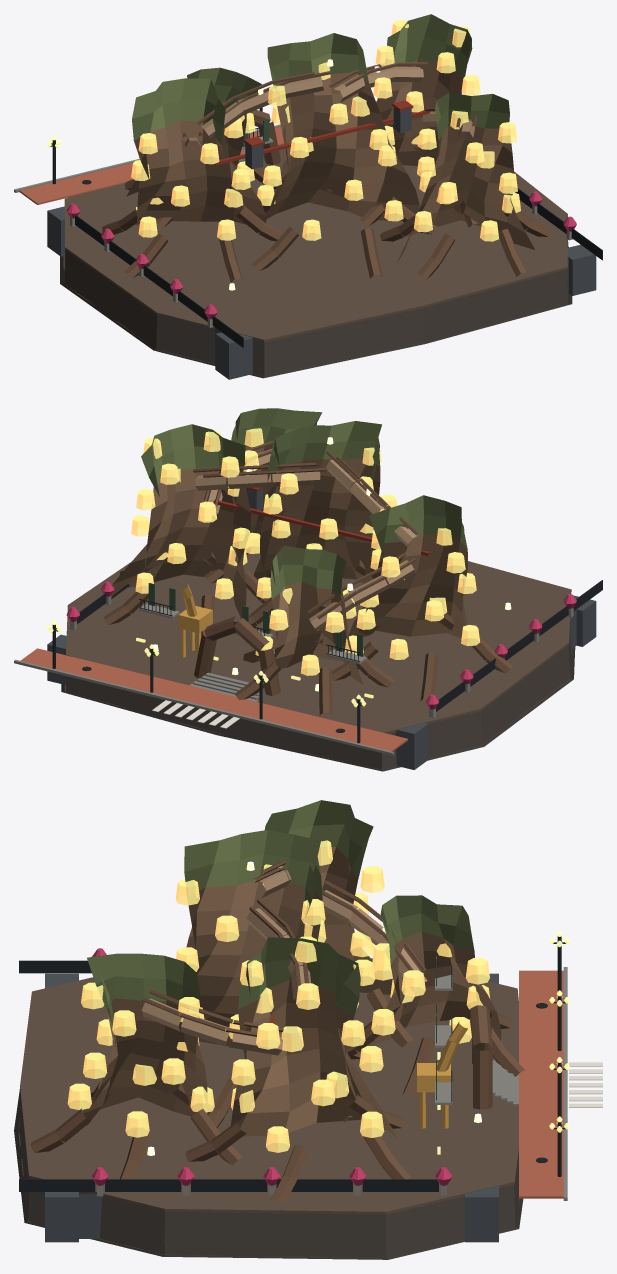
The model's file is lm_11_crazy_house.glb.
The picture shows the model from 3 angles, top to bottom: view 1: azimuth 30°, elevation 25°; view 2: azimuth 150°, elevation 25°; view 3: azimuth 270°, elevation 25°; orthographic projection. The views are drawn at different scales.
Visible parts, largest first — view 1: Foundation_Plinth_Trim, CrazyHouse_Gnarled_Tree_Towers, Foundation_Skirt, CrazyHouse_Moss_Hollow_Crowns, CrazyHouse_Freeform_Cave_Windows, CrazyHouse_Buttress_Roots, Phase2_Foundation_Skirt_Minus3p5m, CrazyHouse_Aerial_Vine_Bridges, Phase2_WroughtIron_Balconies_Railings_Manholes, Phase2_Interlocking_Brick_Sidewalk, Phase2_Roof_Ridges_And_Stone_Chimneys, Phase2_Pine_And_Bougainvillea_Fence (+1 smaller); view 2: Foundation_Plinth_Trim, CrazyHouse_Gnarled_Tree_Towers, CrazyHouse_Moss_Hollow_Crowns, CrazyHouse_Freeform_Cave_Windows, Foundation_Skirt, CrazyHouse_Buttress_Roots, Phase2_Interlocking_Brick_Sidewalk, CrazyHouse_Aerial_Vine_Bridges, Phase2_Granite_Curb_And_Entry_Steps, Phase2_WroughtIron_Balconies_Railings_Manholes, Phase2_Foundation_Skirt_Minus3p5m, CrazyHouse_Giraffe_Sculpture (+5 smaller); view 3: Foundation_Plinth_Trim, CrazyHouse_Gnarled_Tree_Towers, CrazyHouse_Moss_Hollow_Crowns, CrazyHouse_Freeform_Cave_Windows, Foundation_Skirt, CrazyHouse_Buttress_Roots, Phase2_Interlocking_Brick_Sidewalk, Phase2_WroughtIron_Balconies_Railings_Manholes, Phase2_Foundation_Skirt_Minus3p5m, CrazyHouse_Aerial_Vine_Bridges, Phase2_Granite_Curb_And_Entry_Steps, CrazyHouse_Giraffe_Sculpture (+3 smaller).
Part boxes in pixels (x1,y1,x2,y2): Foundation_Plinth_Trim: (64, 149, 567, 341); CrazyHouse_Gnarled_Tree_Towers: (126, 59, 534, 264); Foundation_Skirt: (60, 239, 572, 378); CrazyHouse_Moss_Hollow_Crowns: (132, 14, 509, 144); CrazyHouse_Freeform_Cave_Windows: (131, 19, 520, 241); CrazyHouse_Buttress_Roots: (102, 62, 551, 282); Phase2_Foundation_Skirt_Minus3p5m: (47, 107, 596, 379); CrazyHouse_Aerial_Vine_Bridges: (184, 66, 474, 146); Phase2_WroughtIron_Balconies_Railings_Manholes: (50, 107, 602, 347); Phase2_Interlocking_Brick_Sidewalk: (19, 126, 284, 204); Phase2_Roof_Ridges_And_Stone_Chimneys: (213, 100, 429, 165); Phase2_Pine_And_Bougainvillea_Fence: (66, 191, 576, 319); Foundation_Plinth_Trim: (66, 546, 571, 733); CrazyHouse_Gnarled_Tree_Towers: (111, 443, 467, 684); CrazyHouse_Moss_Hollow_Crowns: (141, 408, 467, 603); CrazyHouse_Freeform_Cave_Windows: (131, 428, 480, 675); Foundation_Skirt: (61, 623, 575, 771); CrazyHouse_Buttress_Roots: (103, 440, 512, 714); Phase2_Interlocking_Brick_Sidewalk: (20, 648, 407, 751); CrazyHouse_Aerial_Vine_Bridges: (195, 449, 417, 631); Phase2_Granite_Curb_And_Entry_Steps: (14, 595, 573, 755); Phase2_WroughtIron_Balconies_Railings_Manholes: (52, 580, 602, 743); Phase2_Foundation_Skirt_Minus3p5m: (47, 487, 596, 769); CrazyHouse_Giraffe_Sculpture: (178, 583, 212, 660); Foundation_Plinth_Trim: (20, 958, 518, 1214); CrazyHouse_Gnarled_Tree_Towers: (82, 847, 501, 1137); CrazyHouse_Moss_Hollow_Crowns: (87, 800, 474, 1025); CrazyHouse_Freeform_Cave_Windows: (67, 840, 489, 1152); Foundation_Skirt: (14, 1088, 523, 1259); CrazyHouse_Buttress_Roots: (30, 860, 524, 1205); Phase2_Interlocking_Brick_Sidewalk: (519, 970, 563, 1198); Phase2_WroughtIron_Balconies_Railings_Manholes: (19, 936, 565, 1191); Phase2_Foundation_Skirt_Minus3p5m: (45, 973, 498, 1242); CrazyHouse_Aerial_Vine_Bridges: (141, 870, 427, 1055); Phase2_Granite_Curb_And_Entry_Steps: (97, 967, 567, 1200); CrazyHouse_Giraffe_Sculpture: (417, 1022, 467, 1128).
Bounding box in the file's own units: 43.03 × 21.5 × 41.44.
